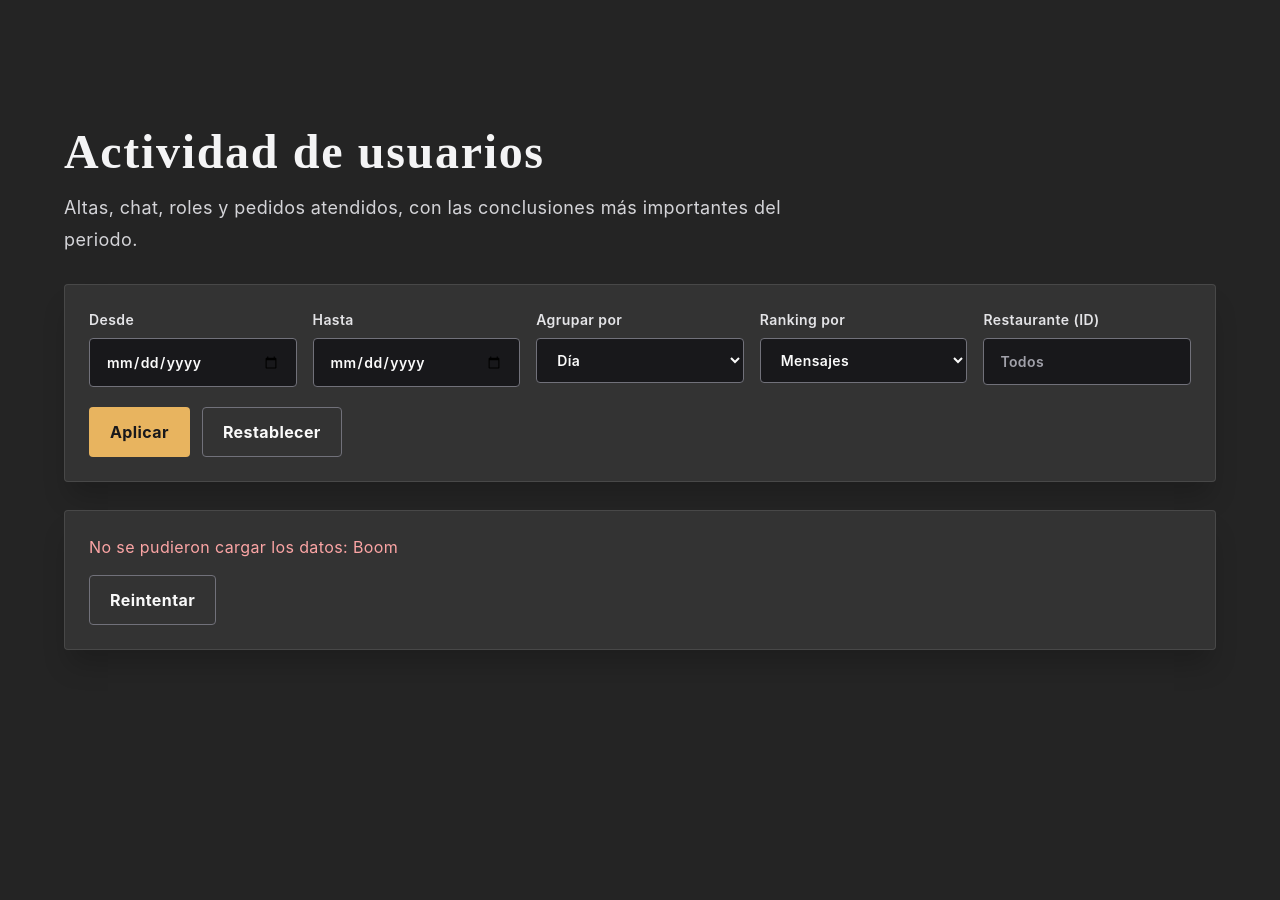
Test case: UserActivityPage › shows the API error and retries
Expected: the message reads "No se pudieron cargar los datos: Boom", [89, 537, 398, 557]
Click the button "Reintentar" at (153, 600), box [89, 575, 216, 625]
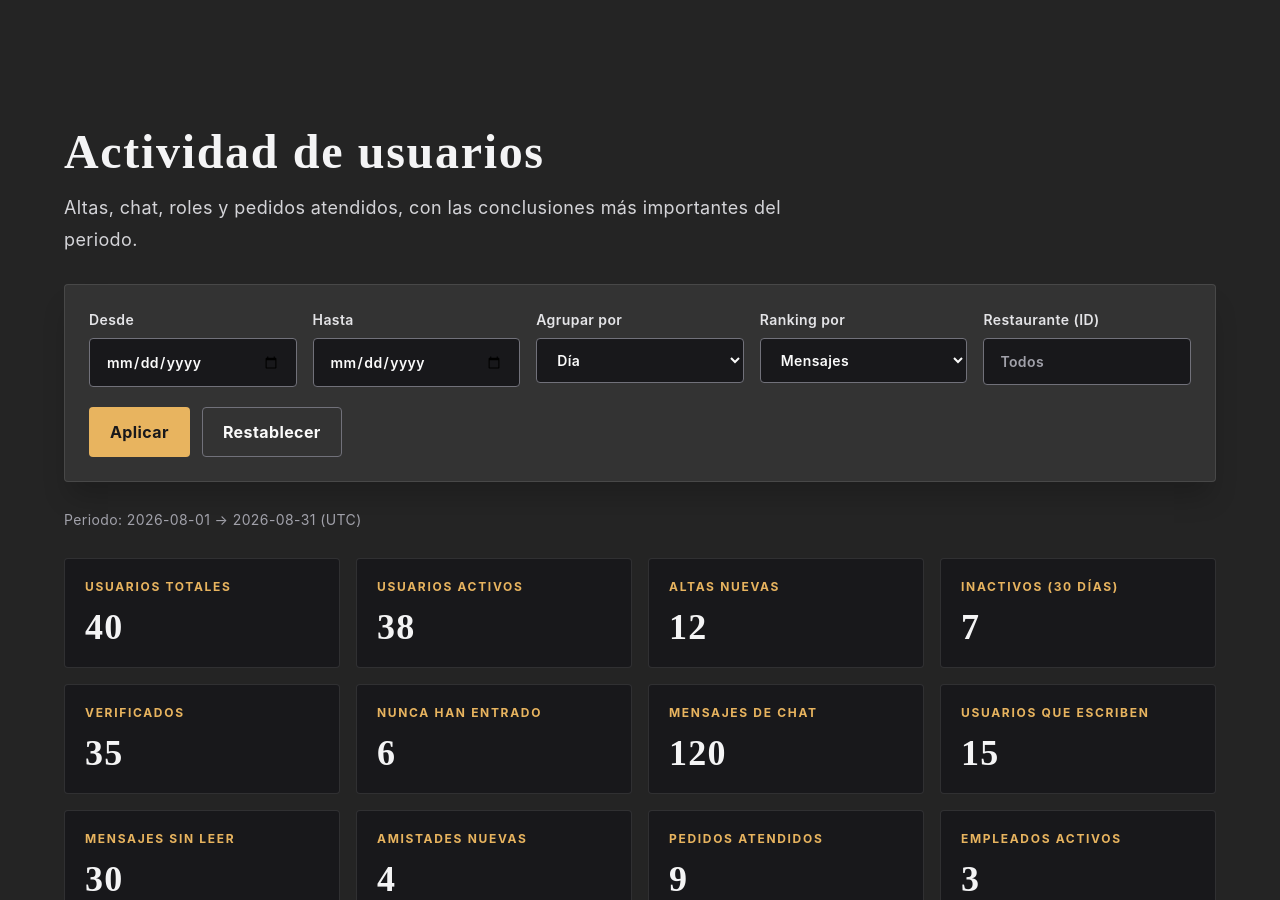
Expected: the text "Usuarios totales" is shown, [85, 579, 232, 594]
